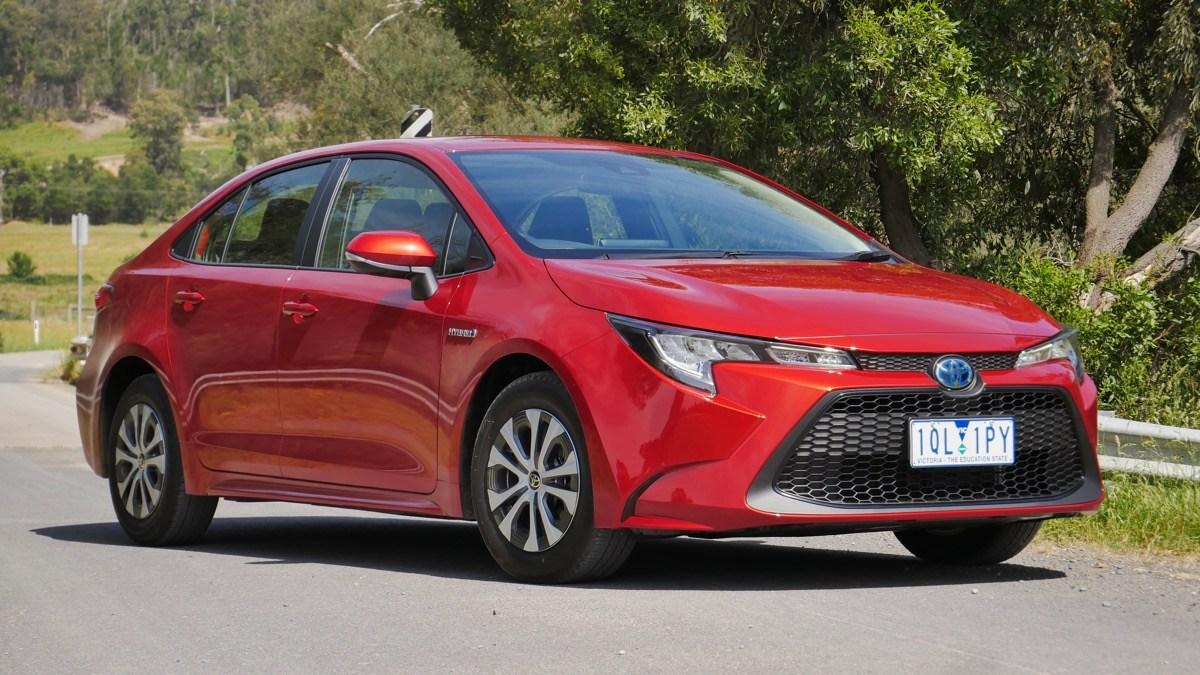car: (72, 113, 1104, 582)
